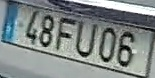0: (97, 26, 117, 64)
4: (24, 10, 38, 46)
6: (115, 29, 135, 68)
8: (38, 13, 55, 48)
F: (54, 15, 77, 52)
U: (74, 19, 98, 59)
